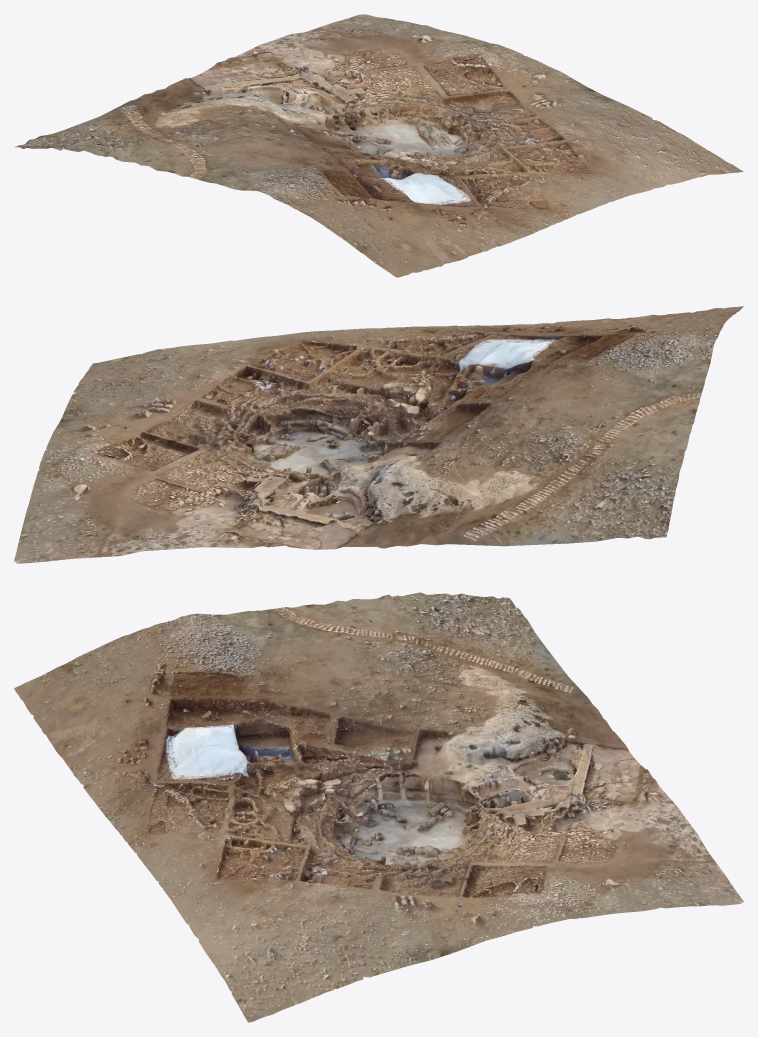
Rendered from karahan-scan-lite.glb.
3 views of the same model, one above another, from view 1: azimuth 30°, elevation 25°; view 2: azimuth 150°, elevation 25°; view 3: azimuth 270°, elevation 25° (orthographic). The views are drawn at different scales.
Visible parts, largest first — view 1: Model_material1_0, Model_material0_0; view 2: Model_material0_0, Model_material1_0; view 3: Model_material0_0, Model_material1_0.
Part boxes in pixels (box(x1,y1,x2,y2)): Model_material1_0: box(101, 41, 743, 277); Model_material0_0: box(14, 14, 607, 216); Model_material0_0: box(14, 324, 723, 563); Model_material1_0: box(60, 306, 743, 549); Model_material0_0: box(129, 592, 743, 955); Model_material1_0: box(14, 634, 683, 1022).
Bounding box in the file's own units: 98.12 × 18.73 × 91.98.
2 materials, 2 textured.
